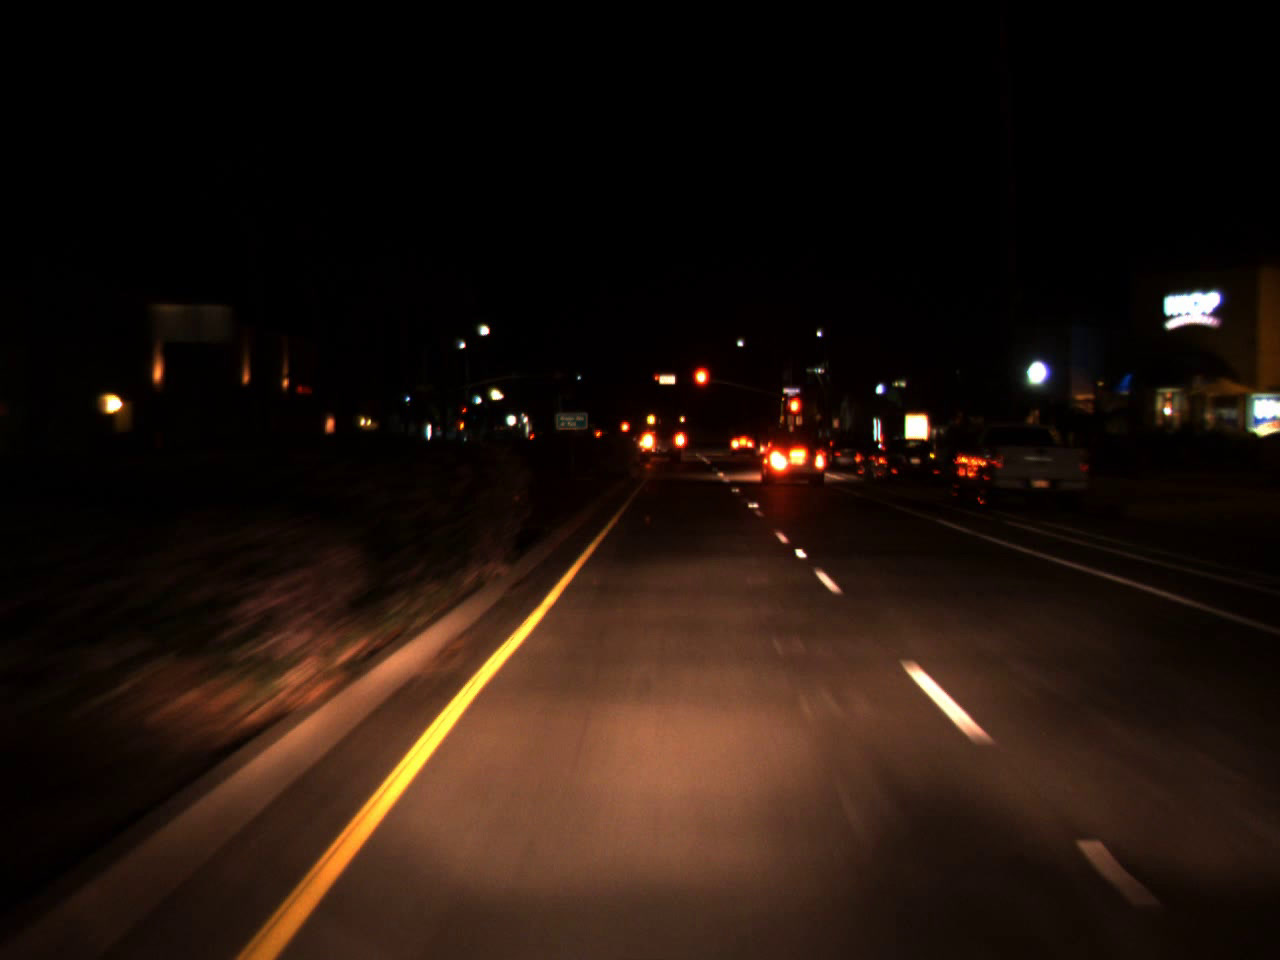stop: (691, 364, 710, 407), (786, 394, 802, 434), (653, 375, 660, 385), (461, 407, 467, 417)
